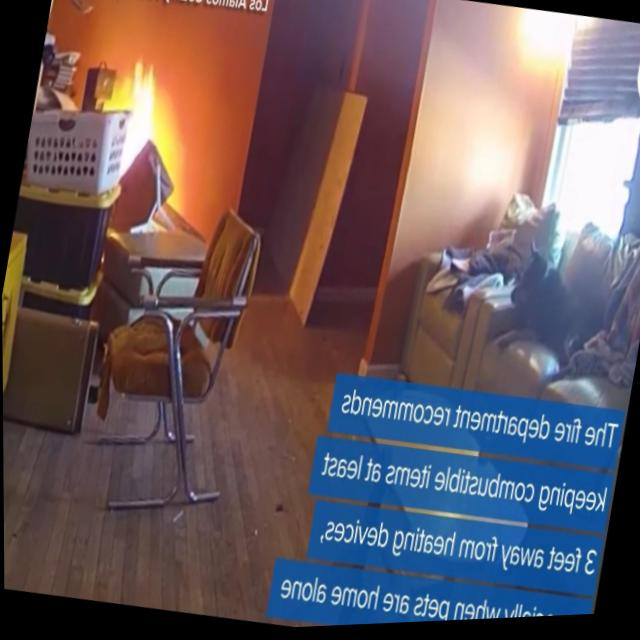fire: (92, 53, 166, 196)
